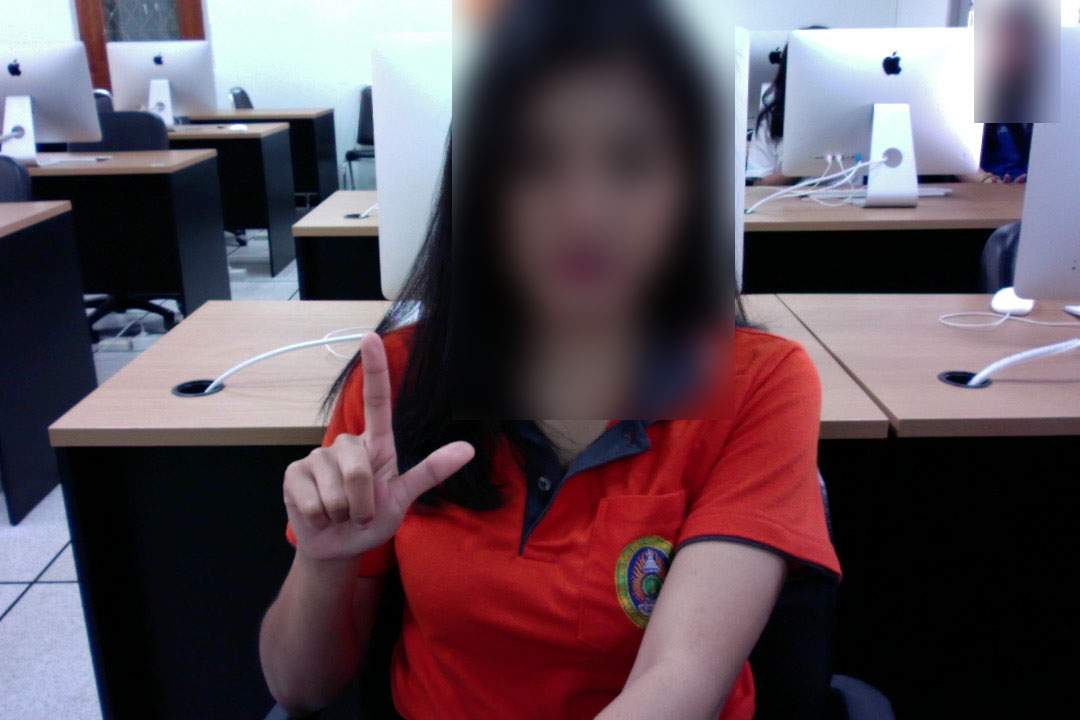lor: (268, 324, 480, 579)
